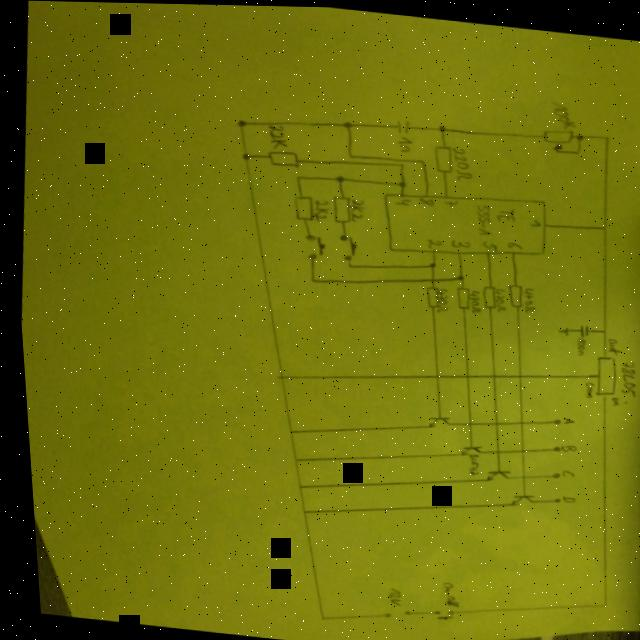capacitor: (392, 117, 410, 132), (572, 321, 586, 335)
crossover: (483, 369, 493, 378), (512, 470, 521, 479), (459, 417, 468, 425), (510, 416, 519, 424), (510, 370, 518, 378), (487, 446, 495, 453), (425, 275, 432, 282), (428, 371, 435, 378), (457, 371, 464, 378), (487, 417, 494, 424), (512, 445, 519, 452)
ground: (552, 322, 565, 334)
junction: (435, 121, 445, 132), (423, 258, 435, 267), (233, 117, 245, 126), (331, 173, 343, 182), (393, 177, 405, 186), (339, 119, 352, 127), (571, 130, 584, 138), (238, 151, 249, 158), (452, 271, 461, 279), (271, 372, 280, 379), (592, 599, 600, 606), (289, 481, 297, 488), (417, 156, 425, 163), (600, 131, 608, 138), (596, 325, 603, 332), (280, 427, 287, 434), (306, 275, 313, 282), (572, 146, 579, 153), (597, 222, 604, 229), (291, 173, 300, 178), (293, 507, 301, 512), (345, 151, 352, 156), (343, 261, 350, 266), (311, 613, 317, 618), (286, 455, 292, 460), (396, 160, 402, 165)
resistor: (539, 124, 574, 151), (263, 146, 300, 168), (429, 140, 453, 172), (289, 190, 313, 221), (328, 192, 349, 222), (450, 284, 468, 307), (502, 280, 519, 304), (477, 282, 492, 306), (420, 283, 435, 306)
switch: (299, 232, 324, 260), (333, 232, 355, 262), (423, 605, 447, 619)
terminal: (373, 608, 384, 618), (547, 414, 556, 422), (544, 469, 554, 476), (545, 494, 554, 501), (546, 442, 555, 449), (394, 607, 403, 614)
text: (470, 200, 514, 236), (447, 145, 474, 180), (547, 99, 577, 127), (613, 357, 633, 394), (265, 122, 288, 148), (432, 579, 452, 605), (344, 195, 364, 221), (309, 196, 328, 222), (517, 284, 533, 312), (462, 287, 479, 311), (488, 285, 503, 310), (430, 285, 445, 310), (460, 450, 475, 473), (378, 584, 395, 604), (394, 133, 411, 151), (421, 234, 441, 248), (602, 334, 618, 351), (446, 235, 468, 247), (570, 334, 583, 353), (476, 237, 496, 249), (391, 194, 410, 205), (578, 378, 590, 395), (604, 393, 622, 404), (554, 440, 572, 450), (415, 194, 432, 204), (524, 215, 539, 226), (439, 196, 457, 205), (502, 239, 520, 248), (553, 492, 569, 501), (556, 412, 569, 423), (554, 466, 568, 476)
transistor: (478, 465, 504, 481), (421, 412, 447, 428), (502, 490, 529, 504), (453, 441, 477, 456)
